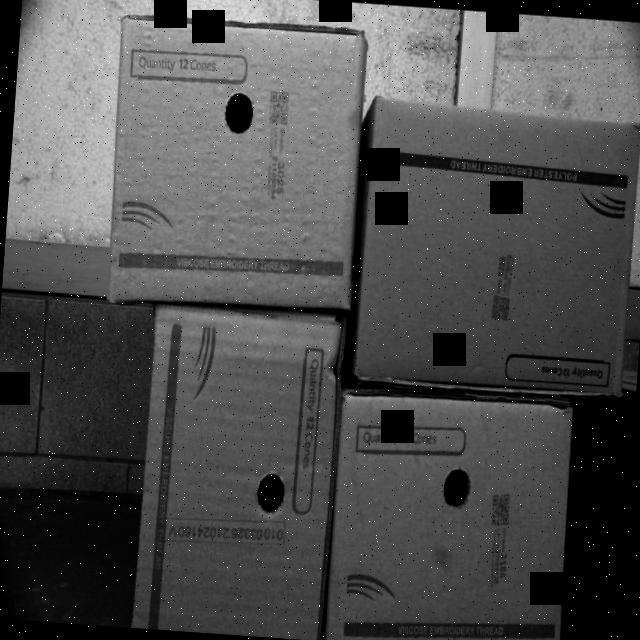box: (354, 103, 640, 394), (104, 12, 368, 312), (134, 312, 344, 640), (325, 393, 575, 640)
